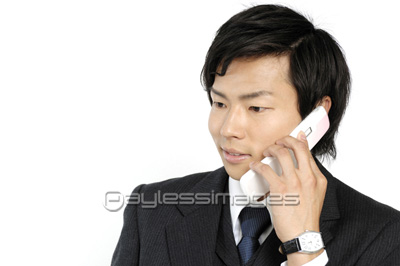phone: (250, 130, 330, 196)
talk: (207, 85, 332, 226)
